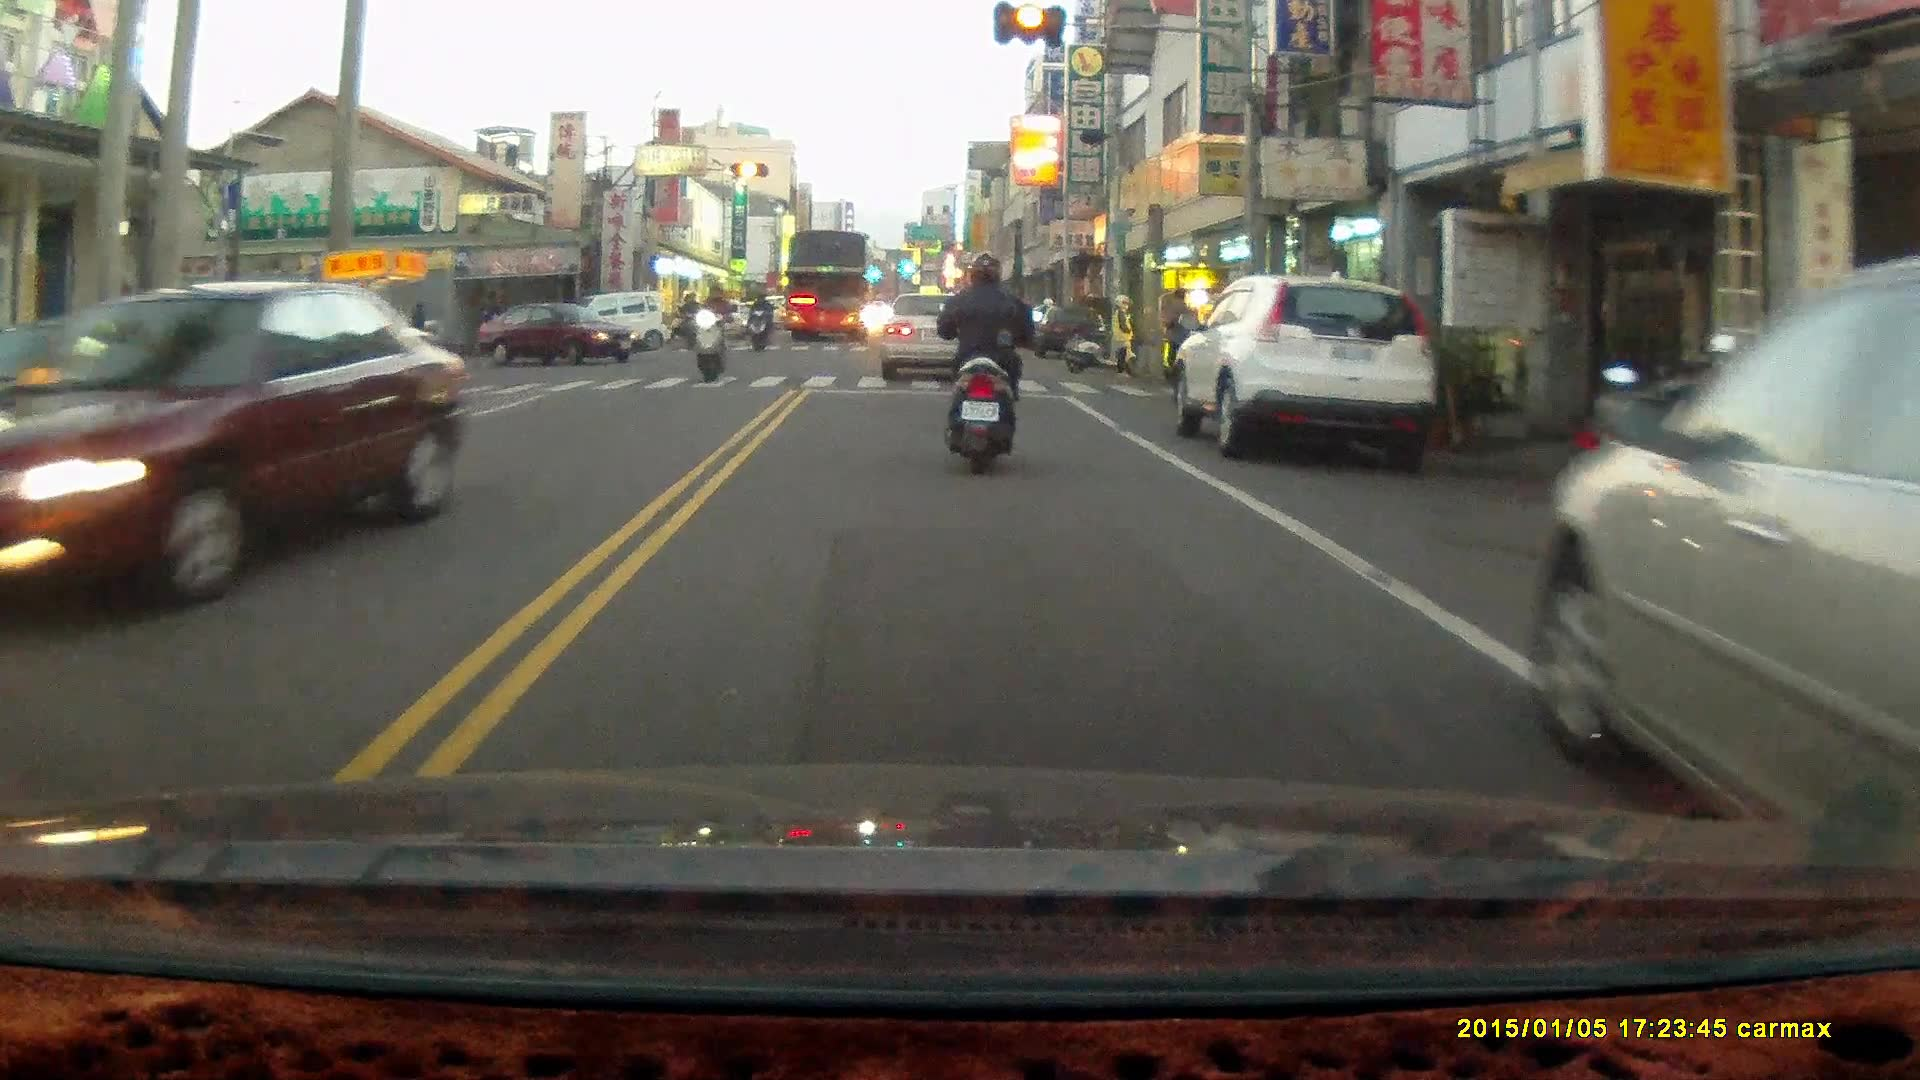pedestrian: (1162, 286, 1192, 386), (1108, 294, 1139, 380)
rider: (936, 250, 1038, 478), (689, 279, 732, 385), (671, 291, 700, 353), (747, 288, 769, 354)
vehicle: (1542, 243, 1920, 829), (1, 281, 482, 626), (1173, 276, 1442, 461), (779, 231, 875, 346), (489, 303, 635, 373), (879, 292, 988, 381)
